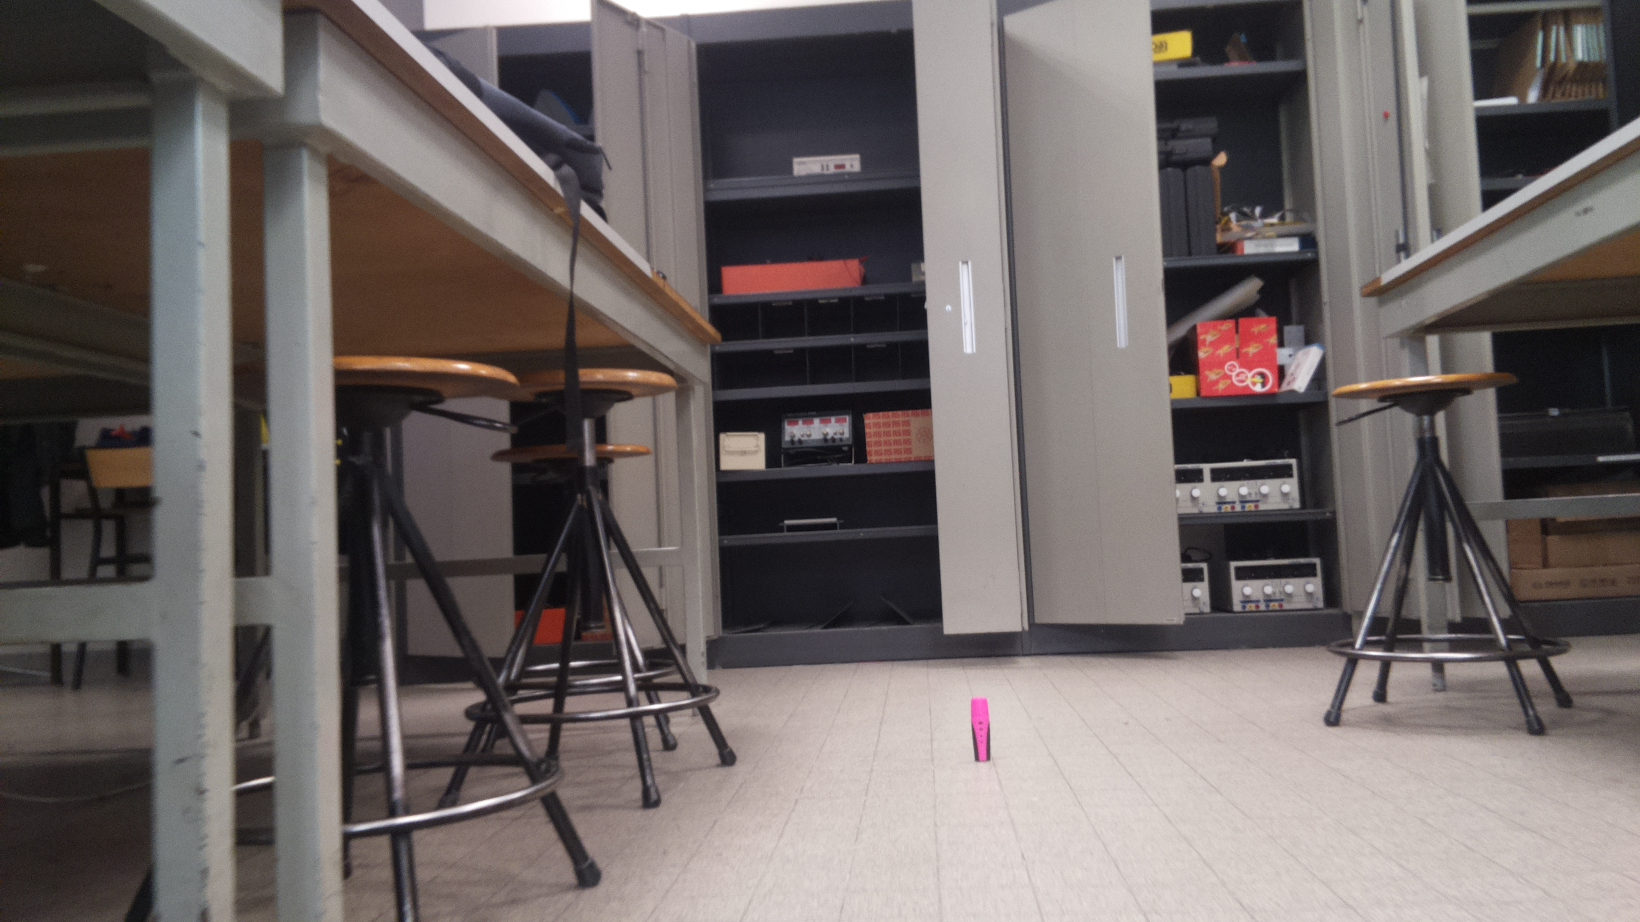small: (969, 695, 993, 763)
